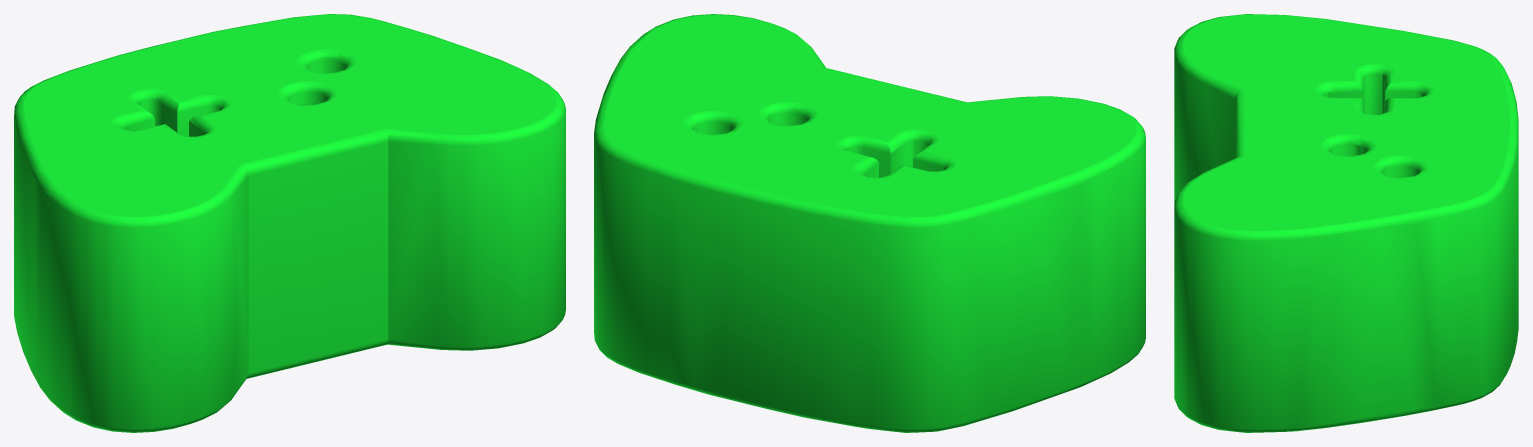
File: Particle-26.dae
The picture shows the model from 3 angles, left to right: view 1: azimuth 30°, elevation 25°; view 2: azimuth 150°, elevation 25°; view 3: azimuth 270°, elevation 25°; orthographic projection. The views are drawn at different scales.
Parts seen in each view (by area): view 1: Particle; view 2: Particle; view 3: Particle.
Boxes of the visible parts, x1,y1,x2,y2 form: Particle: [14, 14, 565, 432]; Particle: [594, 14, 1145, 432]; Particle: [1174, 14, 1518, 432].
Bounding box in the file's own units: 0.1168 × 0.049 × 0.0761.
